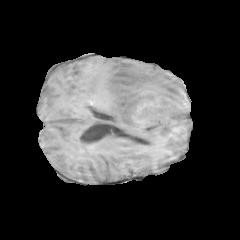glioma: (89, 65, 188, 147)
